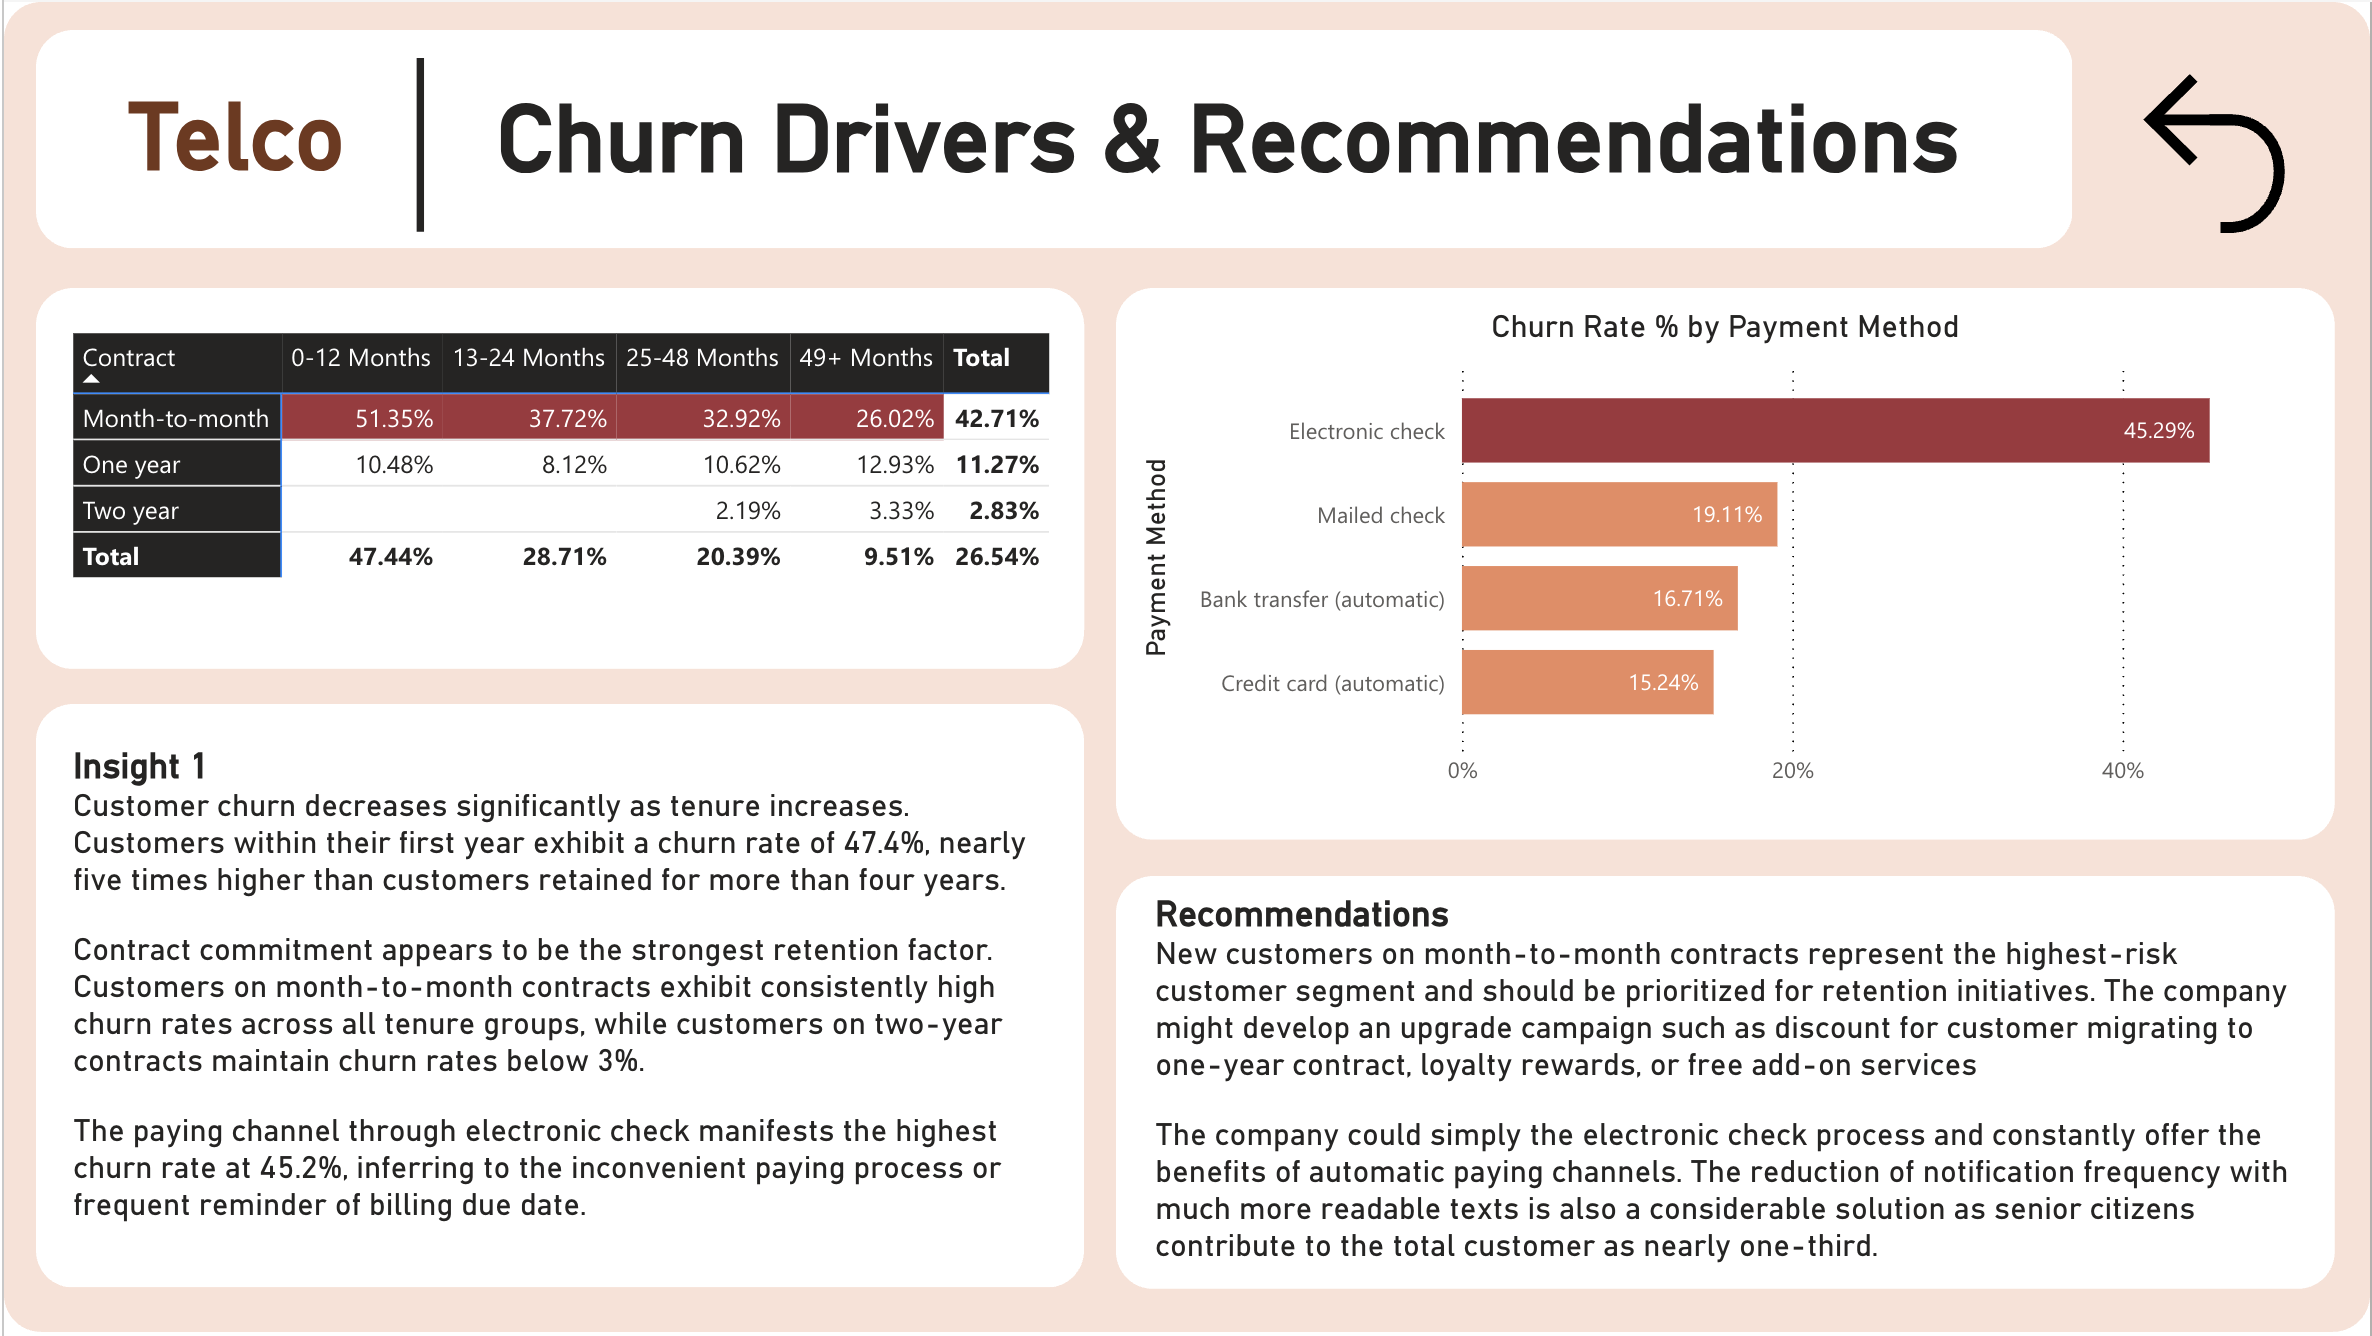

What the dashboard file says about the page in this screenshot:
{"tool":"powerbi","page":{"name":"Churn Drivers & Recommendations","canvas":[1280,720],"ordinal":2},"visuals":[{"type":"shape","box":[0,0,1280,719.5],"z":0},{"type":"shape","box":[17.2,15,1101.7,118.1],"z":1000},{"type":"textbox","box":[62.1,44.1,168.3,84.1],"z":2000},{"type":"textbox","box":[262,45.1,829,83.8],"z":3000},{"type":"shape","box":[160.3,30,130.2,94.1],"z":4000},{"type":"shape","box":[17.2,154.6,567,206.2],"z":5000},{"type":"actionButton","box":[1144.7,30.1,116,103.1],"z":6000},{"type":"shape","box":[17.2,380.1,567,315.7],"z":7000},{"type":"pivotTable","fields":{"Columns":["Telco Customer Churn Dataset.TenureGroup"],"Rows":["Telco Customer Churn Dataset.Contract"],"Values":["Telco Customer Churn Dataset.ChurnRate%"]},"box":[32.2,174,551.9,165.4],"z":8000},{"type":"textbox","box":[32.2,399.5,536.9,272.8],"z":9000},{"type":"shape","box":[601.3,154.6,659.3,298.5],"z":11001},{"type":"barChart","fields":{"Category":["Telco Customer Churn Dataset.PaymentMethod"],"Y":["Telco Customer Churn Dataset.ChurnRate%"]},"box":[609.9,167.5,642.1,266.3],"z":11002},{"type":"shape","box":[601.3,472.5,659.3,223.4],"z":11003},{"type":"textbox","box":[618,479.8,627.8,211.4],"z":11004}]}

Visuals, with their boxes in screenshot pixels (x1, y1, x2, y2), scaled from the page's 1280x720 canvas onto the 2372x1336 screenshot:
shape: detection(0, 0, 2371, 1335)
shape: detection(32, 28, 2073, 247)
textbox: detection(115, 82, 427, 238)
textbox: detection(486, 84, 2022, 239)
shape: detection(297, 56, 538, 230)
shape: detection(32, 287, 1083, 669)
actionButton: detection(2121, 56, 2336, 247)
shape: detection(32, 705, 1083, 1291)
pivotTable - Telco Customer Churn Dataset.TenureGroup x Telco Customer Churn Dataset.Contract: detection(60, 323, 1082, 630)
textbox: detection(60, 741, 1055, 1247)
shape: detection(1114, 287, 2336, 841)
barChart - Telco Customer Churn Dataset.PaymentMethod x Telco Customer Churn Dataset.ChurnRate%: detection(1130, 311, 2320, 805)
shape: detection(1114, 877, 2336, 1291)
textbox: detection(1145, 890, 2309, 1283)
